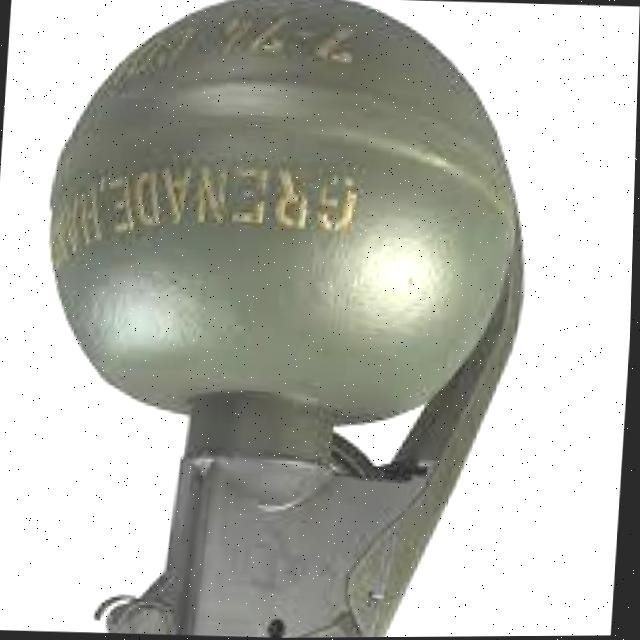grenade: (16, 0, 555, 640)
